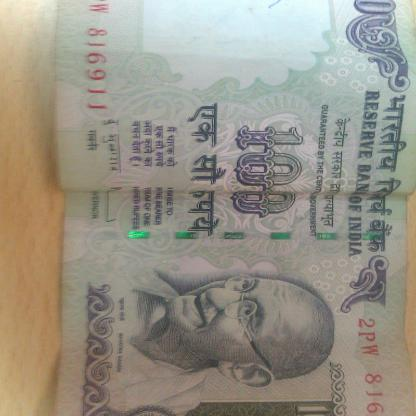Old100Front: (51, 0, 415, 415)
